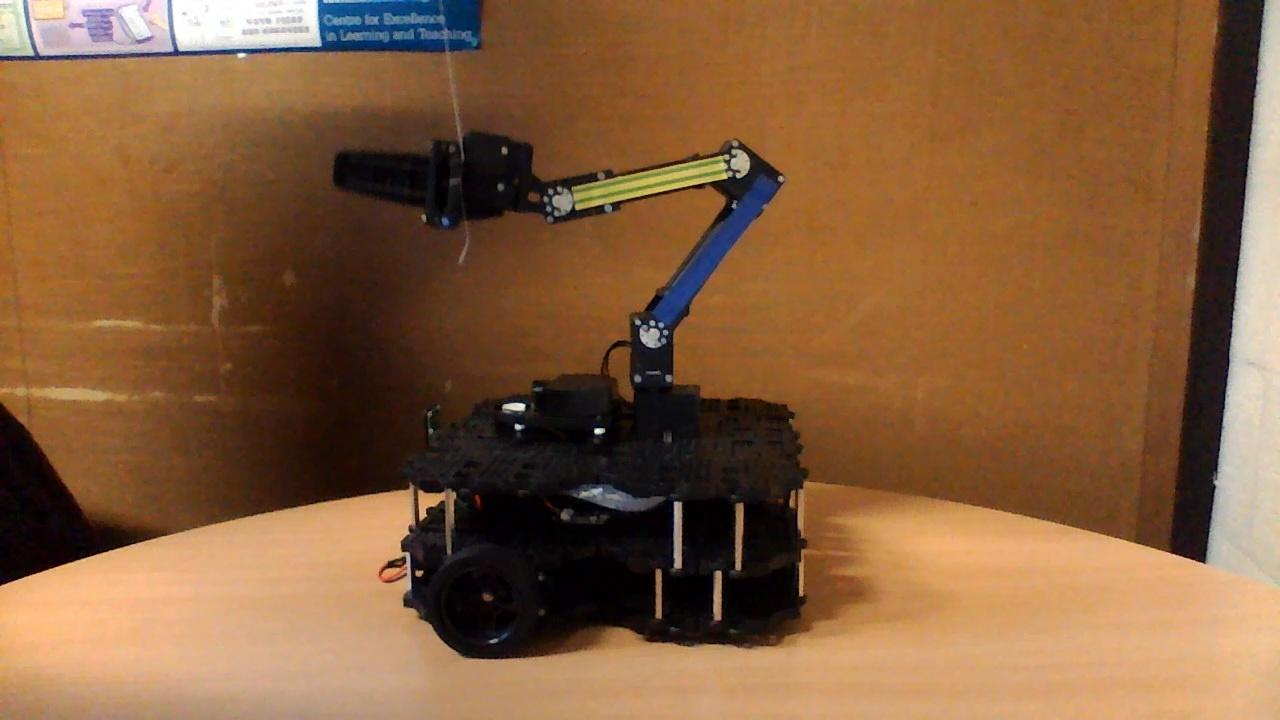Arm: (625, 171, 795, 350)
Hand: (332, 126, 572, 234)
Wrist: (538, 137, 752, 227)
base: (375, 367, 812, 665)
